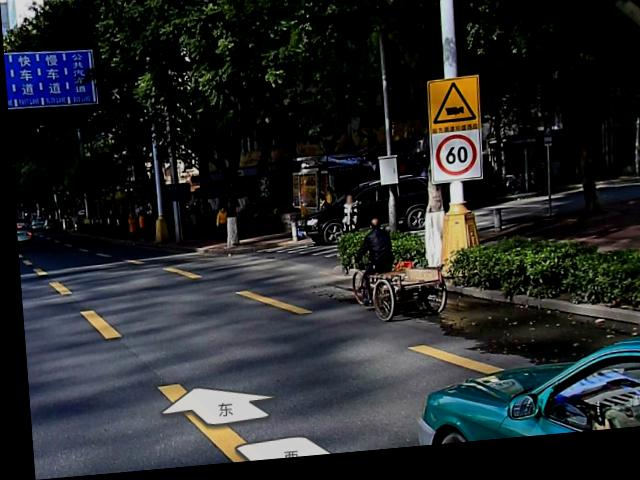limit60: (431, 142, 475, 183)
